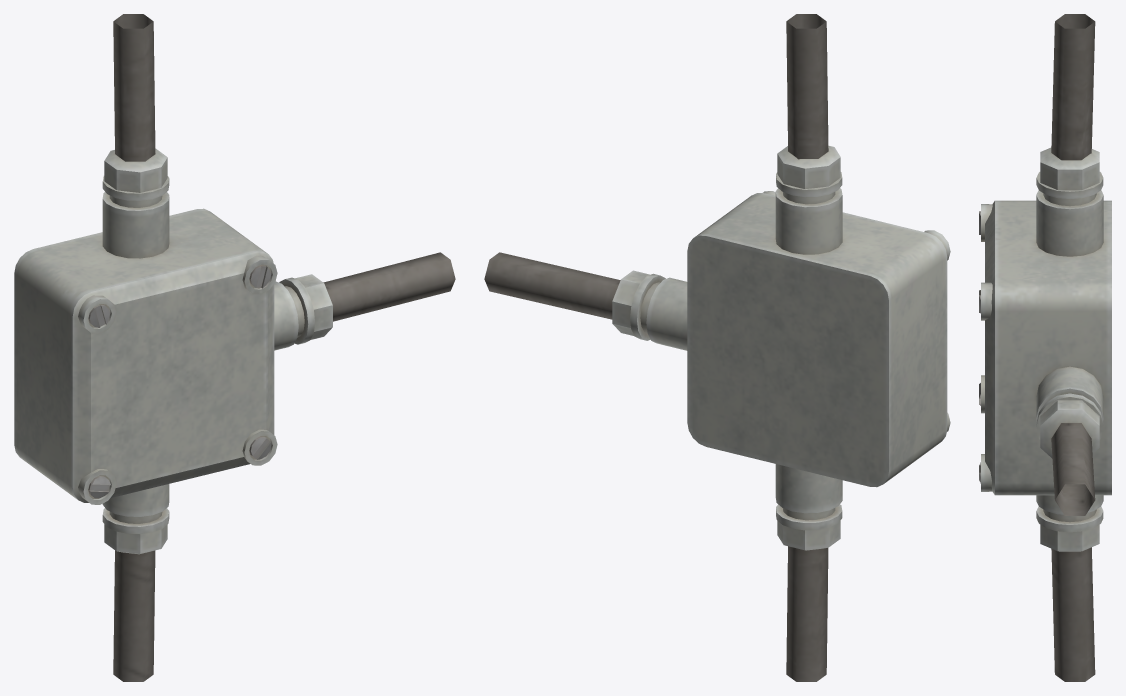
The model's file is cable_box_3way.glb.
3 renders of one model, left to right at view 1: azimuth 30°, elevation 25°; view 2: azimuth 150°, elevation 25°; view 3: azimuth 270°, elevation 25°, orthographic.
Visible parts, largest first — view 1: cable_box_3way.001; view 2: cable_box_3way.001; view 3: cable_box_3way.001.
Part boxes in pixels (x1,y1,x2,y2): cable_box_3way.001: [14, 14, 455, 681]; cable_box_3way.001: [484, 14, 950, 681]; cable_box_3way.001: [979, 14, 1111, 681].
Bounding box in the file's own units: 0.1323 × 0.2 × 0.0369.
Materials: 1 (1 with a texture image).
